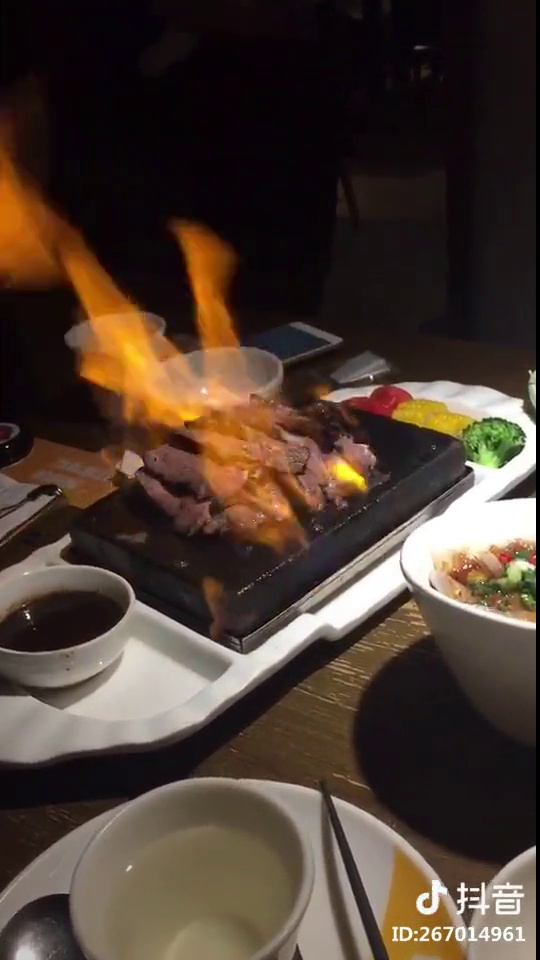fire: (36, 215, 186, 434)
